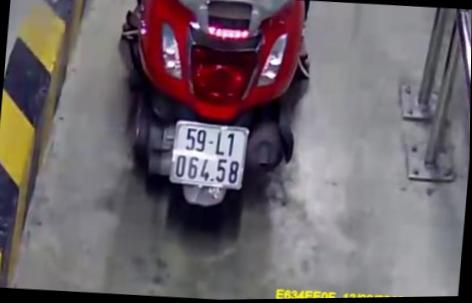LP: (166, 116, 253, 193)
